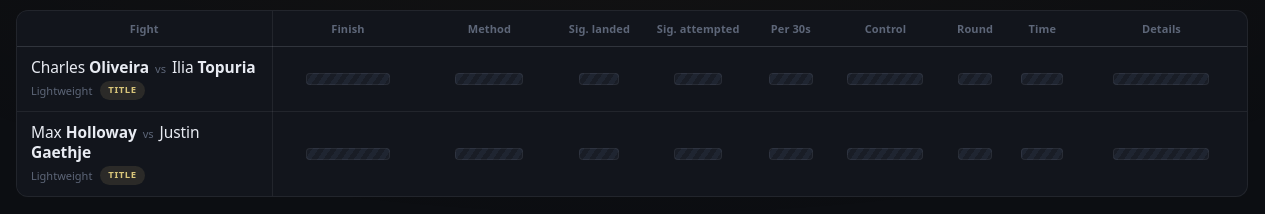
Test: row reveal via fighter names › clicking the fighter names reveals every cell of that fight, other fights stay sealed
This screenshot has width=1265, height=214.
Step 1. Click the button with aria-label "reveal every detail — Charles Oliveira" → (144,79), box 17,47 -> 272,111
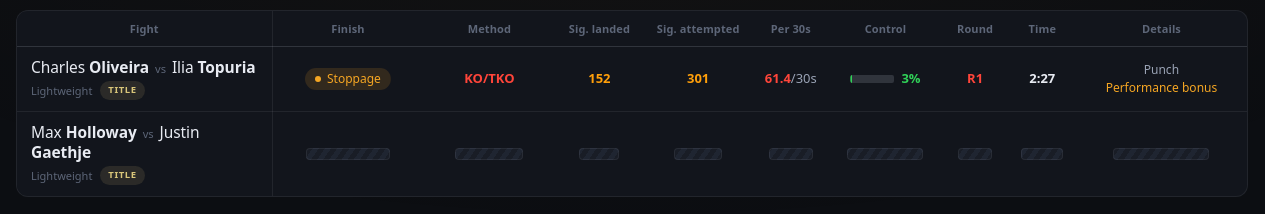
Expected: the text "KO/TKO" is shown, 464,69 -> 515,87
Expected: the text "R1" is shown, 967,69 -> 983,87
